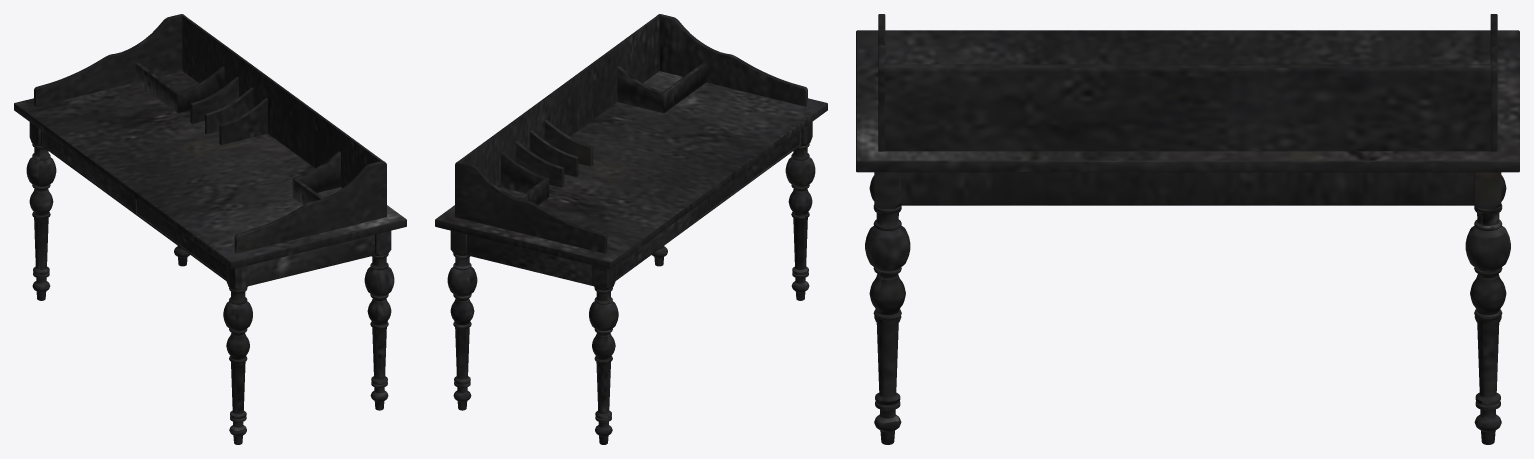
Rendered from SM_Horror_Attic_Table.fbx.
3 renders of one model, left to right at view 1: azimuth 30°, elevation 25°; view 2: azimuth 150°, elevation 25°; view 3: azimuth 270°, elevation 25°, orthographic. The views are drawn at different scales.
Visible parts, largest first — view 1: SM_Horror_Attic_Table; view 2: SM_Horror_Attic_Table; view 3: SM_Horror_Attic_Table.
Part boxes in pixels (box(x1,y1,x2,y2)): SM_Horror_Attic_Table: box(14, 14, 406, 444); SM_Horror_Attic_Table: box(435, 14, 827, 444); SM_Horror_Attic_Table: box(856, 14, 1519, 444).
Bounding box in the file's own units: 82.8 × 177 × 112.
Materials: 1 (1 with a texture image).
